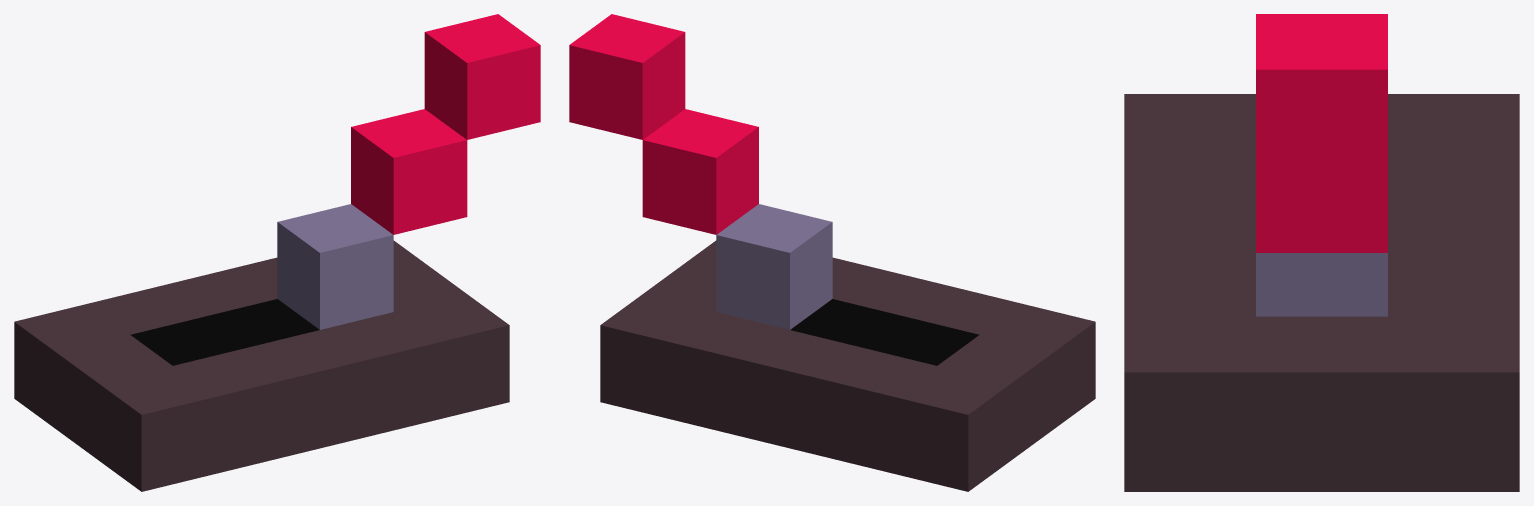
The model's file is lever_b_b_red_on.obj.
3 views of the same model, side by side, from view 1: azimuth 30°, elevation 25°; view 2: azimuth 150°, elevation 25°; view 3: azimuth 270°, elevation 25° (orthographic). The views are drawn at different scales.
Size of the model in its own units: 0.6 by 0.4 by 0.3.
Materials: 1 (1 with a texture image).
